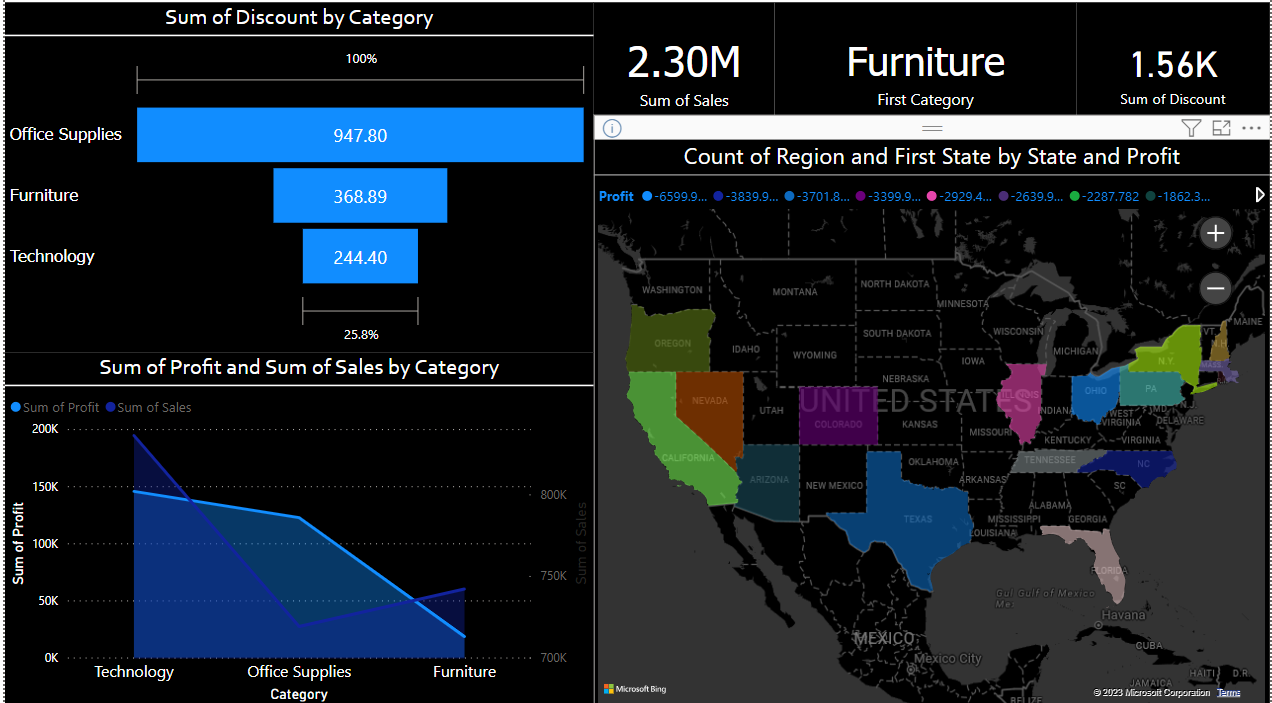

The dashboard page shown, as its layout file describes it:
{"tool":"powerbi","page":{"name":"Page 3","canvas":[1280,720],"ordinal":2},"visuals":[{"type":"funnel","fields":{"Category":["Orders.Category"],"Y":["Sum(Orders.Discount)"]},"box":[0,6.3,596,354.3],"z":0},{"type":"areaChart","fields":{"Category":["Orders.Category"],"Y":["Sum(Orders.Profit)"],"Y2":["Sum(Orders.Sales)"]},"box":[0,360.6,596,359.4],"z":1000},{"type":"card","fields":{"Values":["Sum(Orders.Discount)"]},"box":[1084.4,6.3,196.1,139.2],"z":2000},{"type":"card","fields":{"Values":["Min(Orders.Category)"]},"box":[779.5,6.3,305,139.2],"z":3000},{"type":"card","fields":{"Values":["Sum(Orders.Sales)"]},"box":[596,6.3,183.5,139.2],"z":4000},{"type":"filledMap","fields":{"Category":["Orders.State"],"Series":["Orders.Profit"]},"box":[596,145.5,684.6,574.5],"z":5000}]}

Visuals, with their boxes in screenshot pixels (x1, y1, x2, y2), scaled from the page's 1280x720 canvas onto the 1272x703 screenshot:
funnel - Orders.Category x Sum(Orders.Discount): 0, 6, 592, 352
areaChart - Orders.Category x Sum(Orders.Profit): 0, 352, 592, 702
card - Sum(Orders.Discount): 1078, 6, 1271, 142
card - Min(Orders.Category): 775, 6, 1078, 142
card - Sum(Orders.Sales): 592, 6, 775, 142
filledMap - Orders.State x Orders.Profit: 592, 142, 1271, 702
